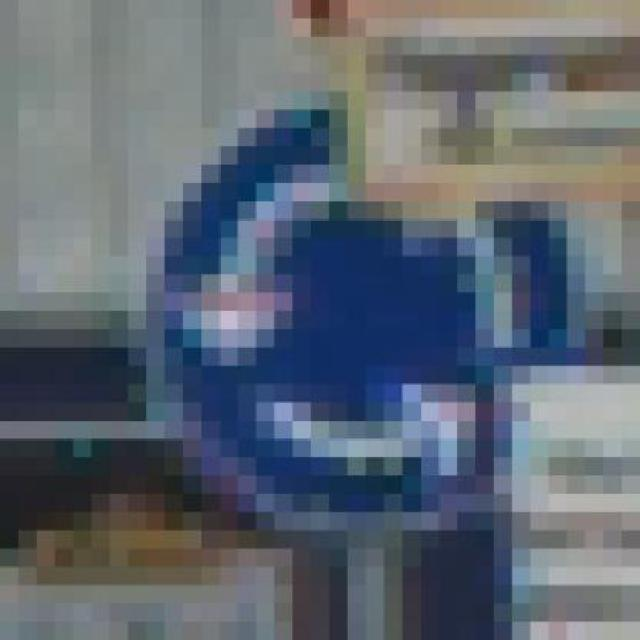Round-About: (128, 73, 603, 567)
